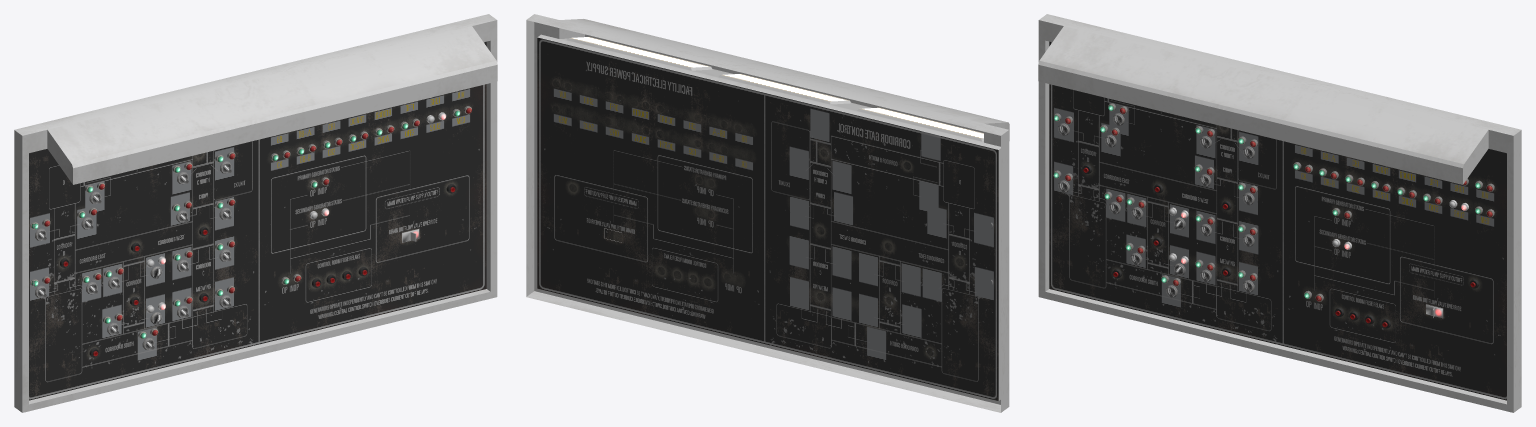
The model's file is SM_ControlPanel_02_A.fbx.
3 views of the same model, side by side, from view 1: azimuth 30°, elevation 25°; view 2: azimuth 150°, elevation 25°; view 3: azimuth 330°, elevation 25° (orthographic).
Visible parts, largest first — view 1: SM_ControlPanel_02_A_LOD0; view 2: SM_ControlPanel_02_A_LOD0; view 3: SM_ControlPanel_02_A_LOD0.
Part boxes in pixels (<box>): SM_ControlPanel_02_A_LOD0: <box>14,14,497,412</box>; SM_ControlPanel_02_A_LOD0: <box>526,14,1009,412</box>; SM_ControlPanel_02_A_LOD0: <box>1038,14,1521,412</box>.
Size of the model in its own units: 214 by 26.43 by 119.
